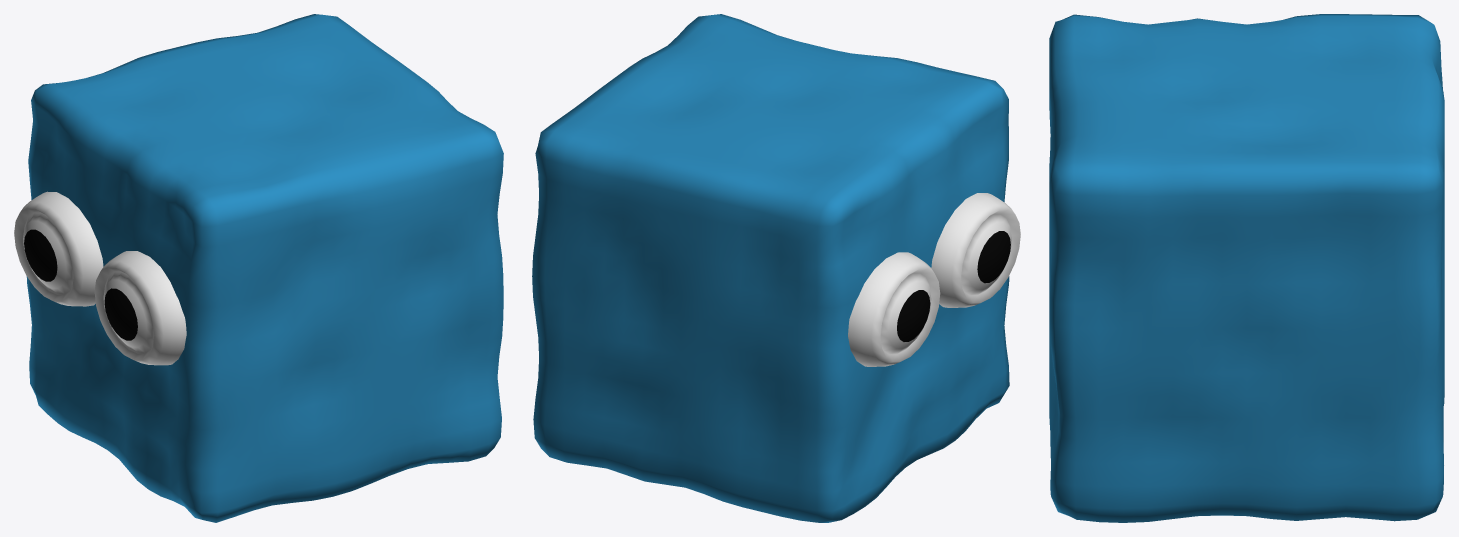
File: KR_Model_Slime_Blue_Vang.fbx
3 renders of one model, left to right at view 1: azimuth 30°, elevation 25°; view 2: azimuth 150°, elevation 25°; view 3: azimuth 270°, elevation 25°, orthographic. The views are drawn at different scales.
Parts seen in each view (by area): view 1: pCube1, righteye1, righteye; view 2: pCube1, righteye, righteye1; view 3: pCube1.
Part boxes in pixels (left/top/right/bottom): pCube1: left=26, top=14, right=503, bottom=522; righteye1: left=94, top=251, right=186, bottom=365; righteye: left=14, top=191, right=103, bottom=306; pCube1: left=532, top=14, right=1009, bottom=522; righteye: left=848, top=252, right=940, bottom=366; righteye1: left=931, top=193, right=1020, bottom=307; pCube1: left=1049, top=14, right=1444, bottom=522.
Size of the model in its own units: 7.14 by 6.47 by 6.47.
Materials: 4 (1 with a texture image).
